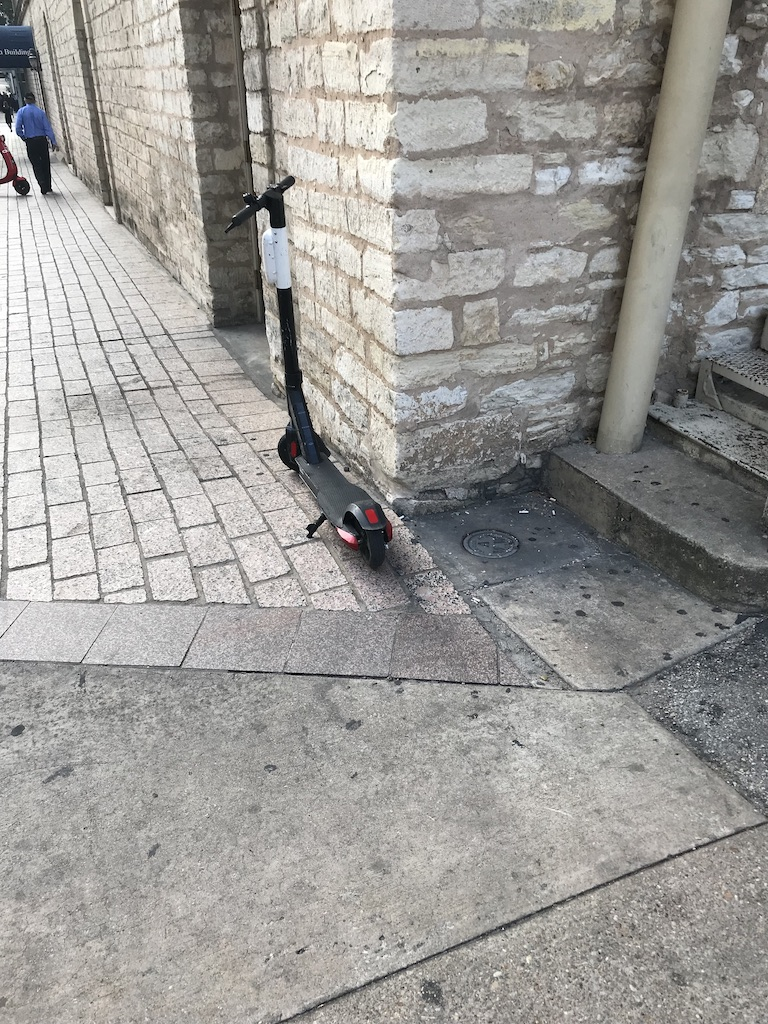scooter: (223, 175, 395, 569)
